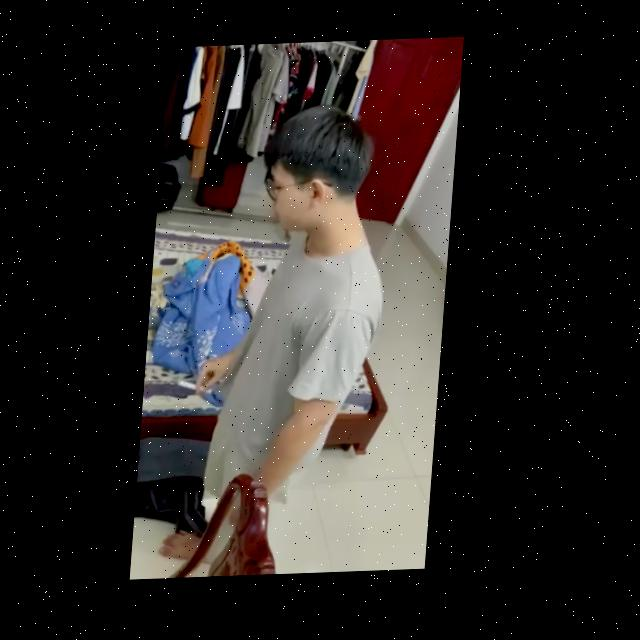cigarette: (182, 380, 218, 397)
